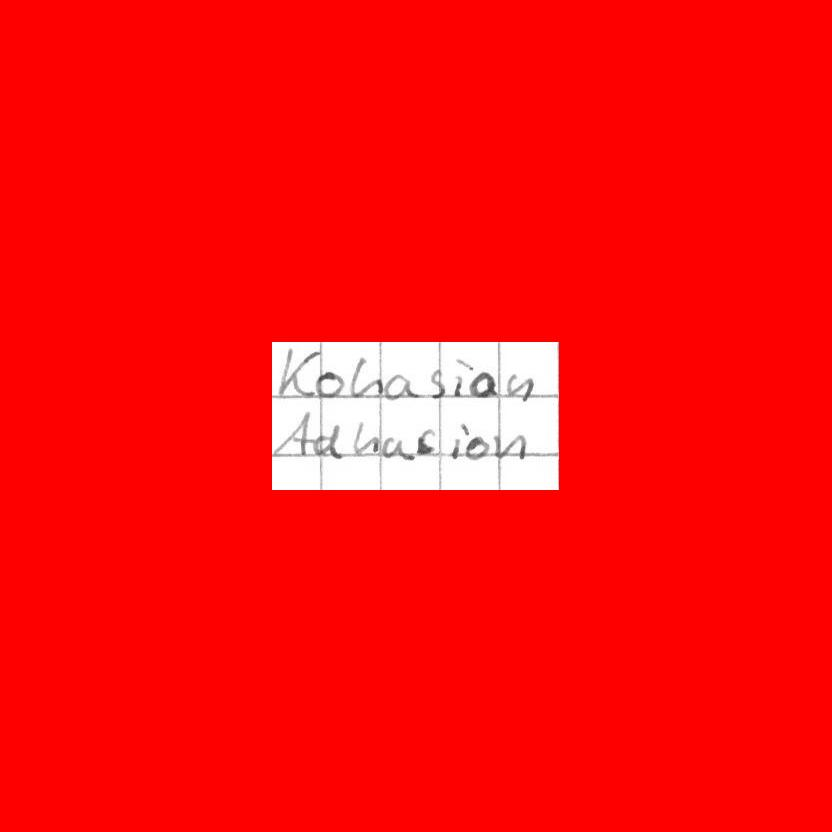Char: (274, 347, 315, 401), (273, 410, 313, 456), (350, 355, 379, 398), (313, 420, 342, 459), (385, 371, 420, 400), (502, 371, 534, 402), (352, 421, 378, 457), (493, 432, 523, 461), (316, 370, 344, 400), (382, 435, 412, 463), (452, 354, 469, 398), (469, 372, 497, 398), (448, 422, 467, 460), (416, 428, 438, 458), (463, 436, 489, 460), (426, 369, 446, 400)
